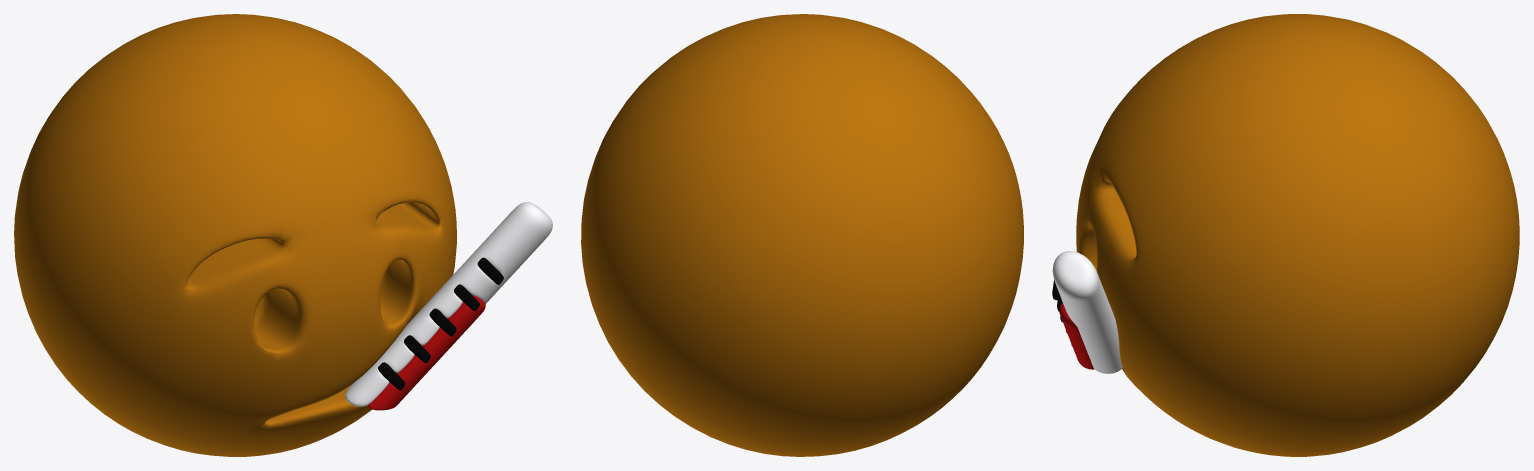
The model's file is thermomether.FBX.
3 views of the same model, side by side, from view 1: azimuth 30°, elevation 25°; view 2: azimuth 150°, elevation 25°; view 3: azimuth 270°, elevation 25° (orthographic).
Parts seen in each view (by area): view 1: Group9951, Group15222, Group55287; view 2: Group9951; view 3: Group9951, Group15222, Group55287.
Part boxes in pixels (x1,y1,x2,y2): Group9951: [14, 14, 456, 456]; Group15222: [345, 202, 552, 406]; Group55287: [367, 295, 485, 410]; Group9951: [581, 14, 1023, 456]; Group9951: [1076, 14, 1519, 456]; Group15222: [1052, 251, 1122, 373]; Group55287: [1059, 302, 1094, 369].
Bounding box in the file's own units: 24.75 × 23.96 × 25.25.
